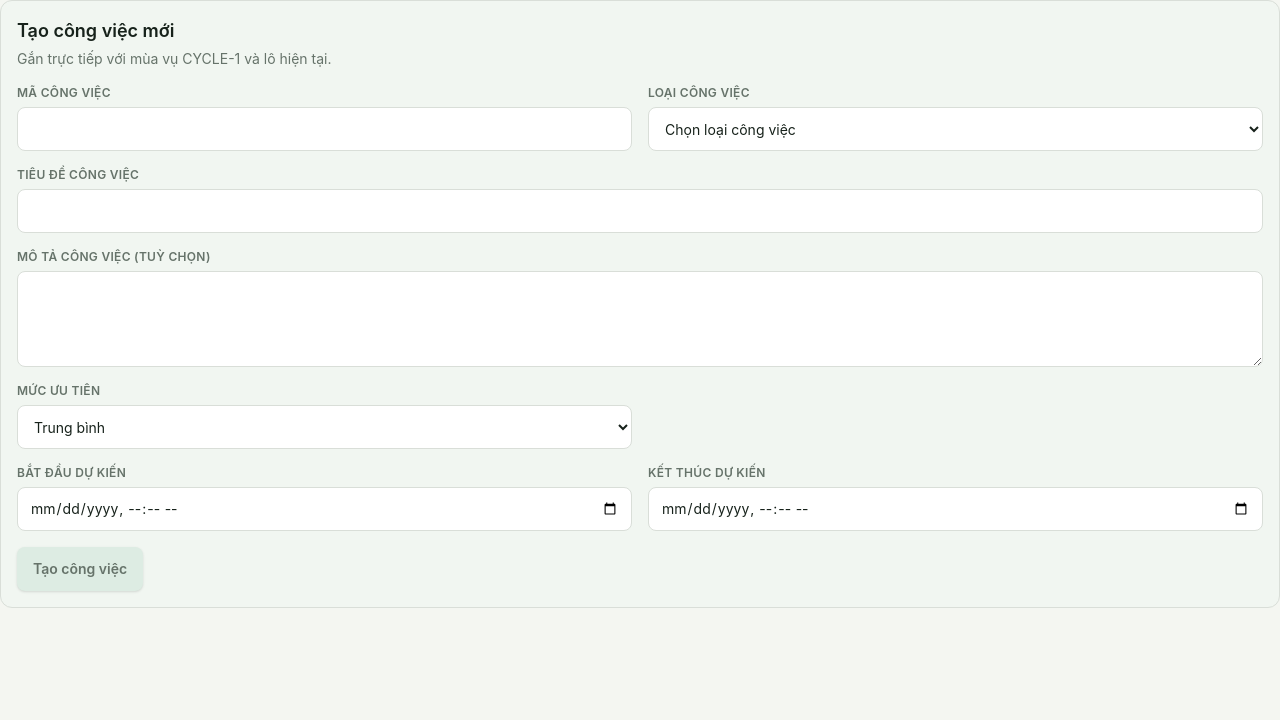
Test: WorkTaskCreateForm › blocks a schedule whose end precedes its start
In the field labelled "Mã công việc": (324, 129) [17,107,632,151], type " task-001 "
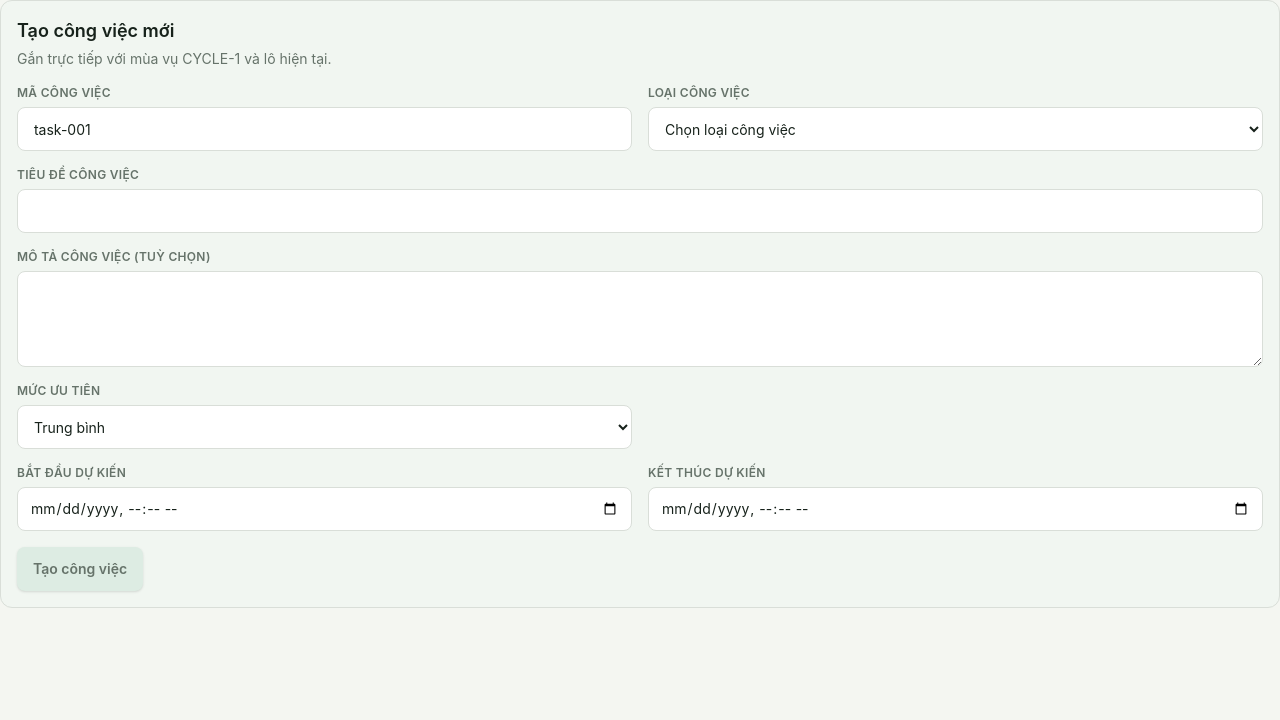
Select "Tưới nước" in the dropdown labelled "Loại công việc": (956, 129) [648,107,1263,151]
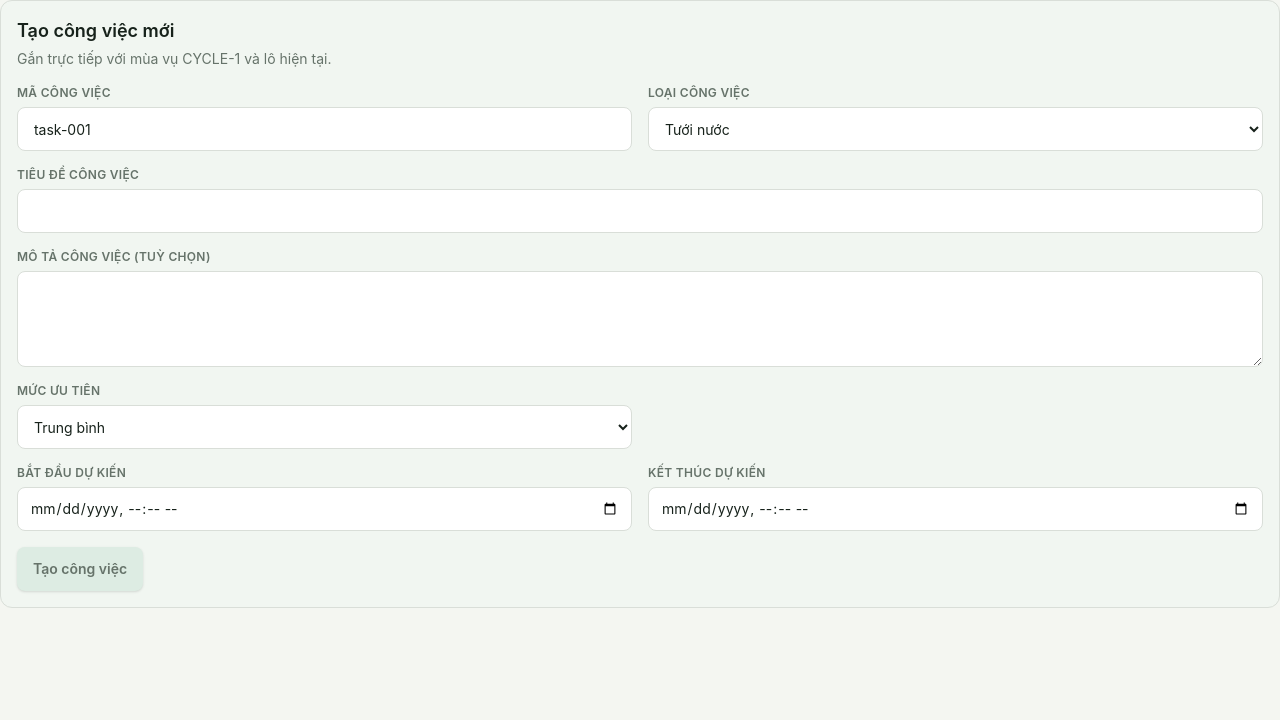
In the field labelled "Tiêu đề công việc": (640, 211) [17,189,1263,233], type " Tưới khu A "
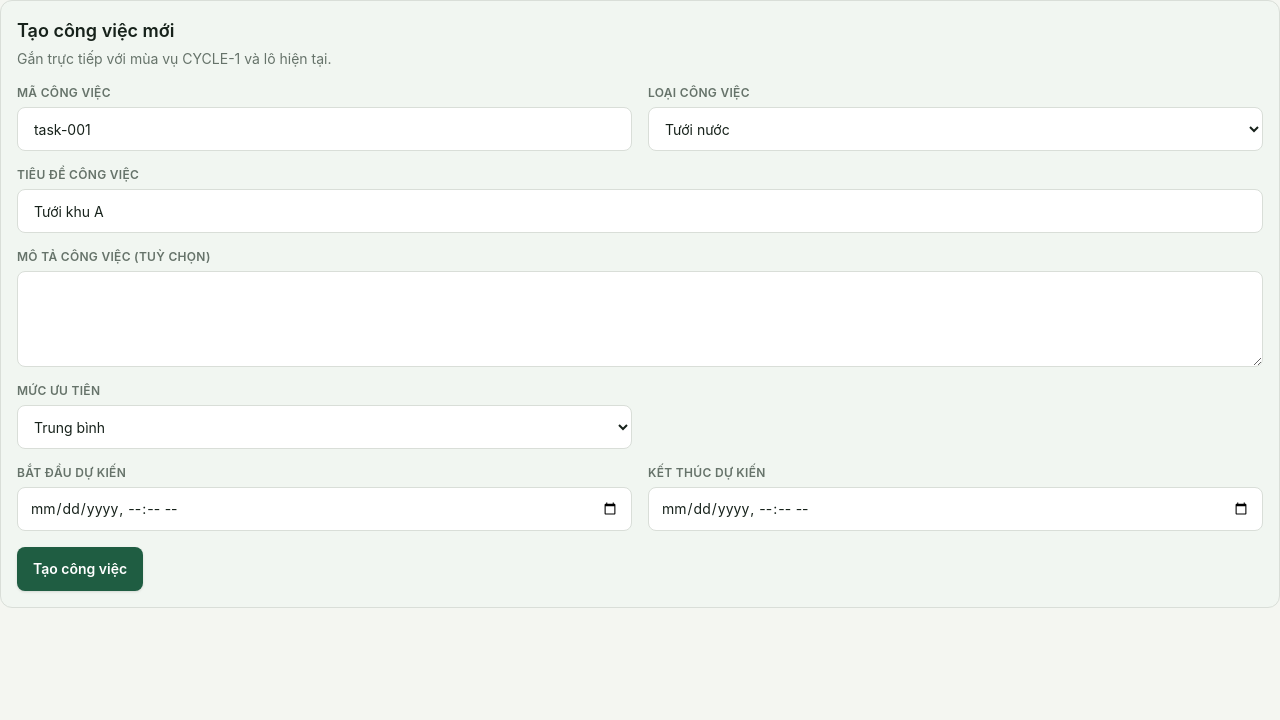
In the field labelled "Bắt đầu dự kiến": (324, 509) [17,487,632,531], type "2026-07-20T10:00"
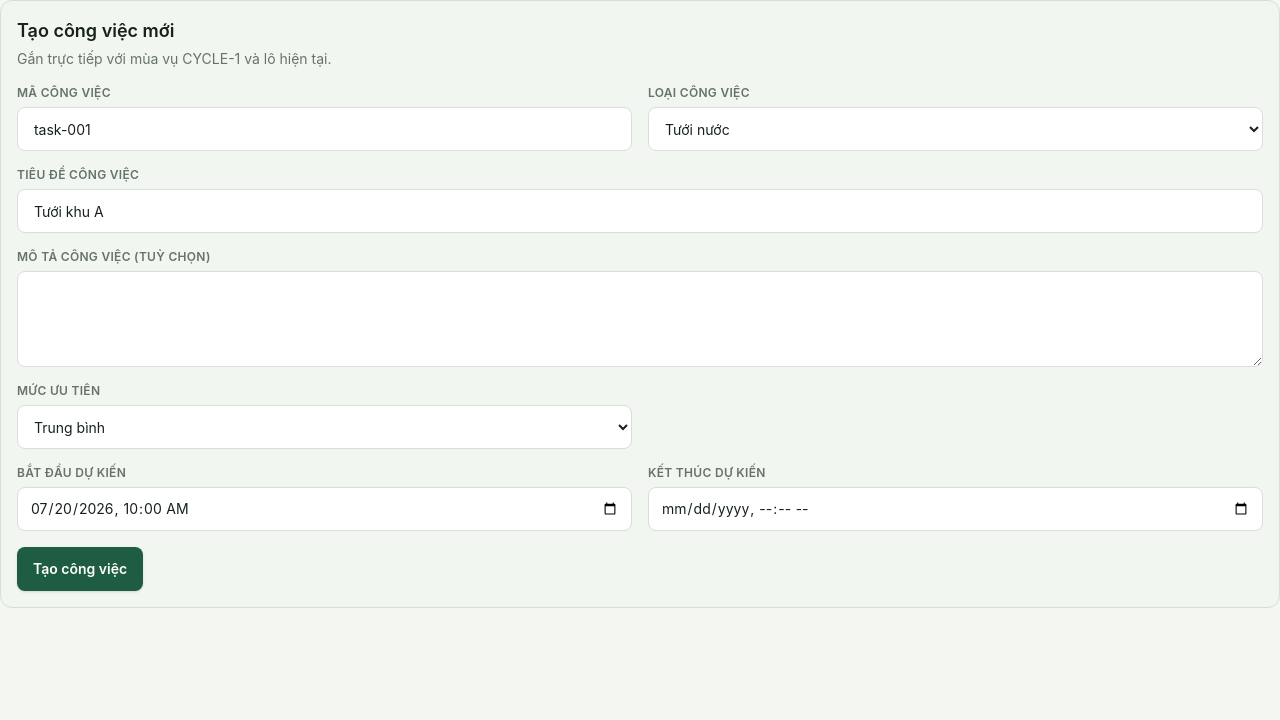
In the field labelled "Kết thúc dự kiến": (956, 509) [648,487,1263,531], type "2026-07-20T09:00"
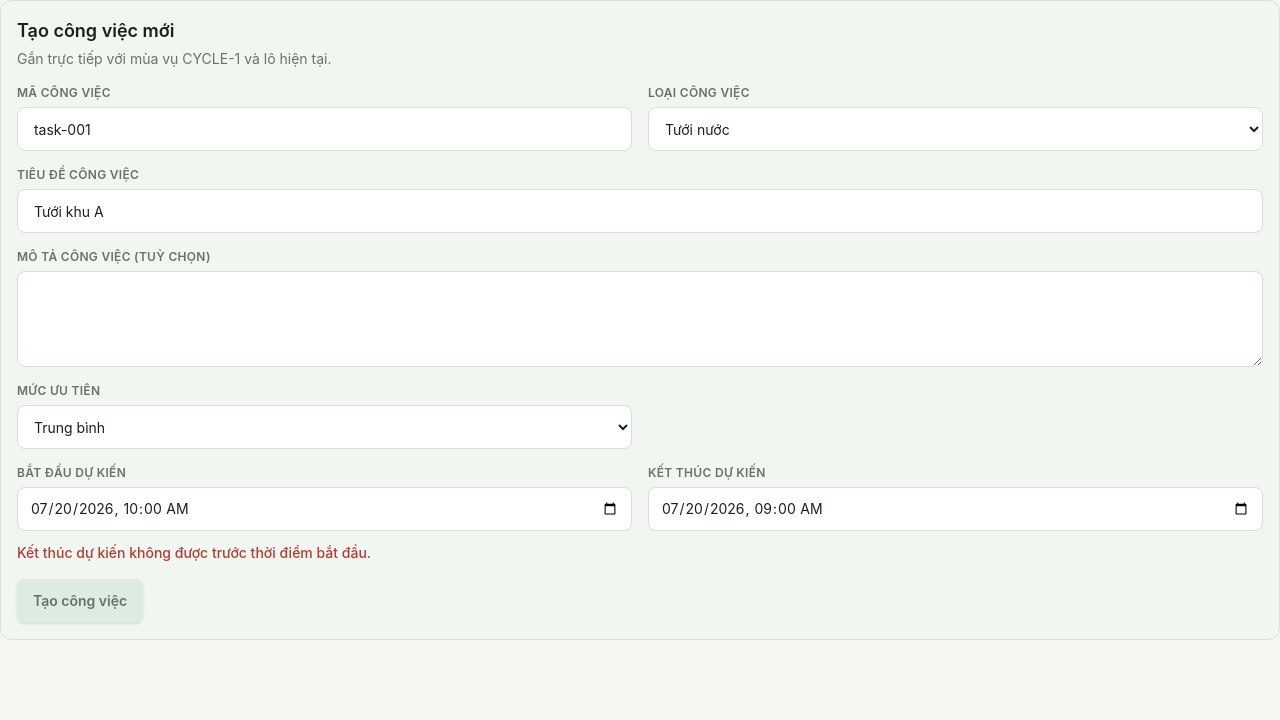
Result: the message shows "không được trước" at [17,544,371,561]
Result: the button "Tạo công việc" is disabled at [17,579,143,623]
